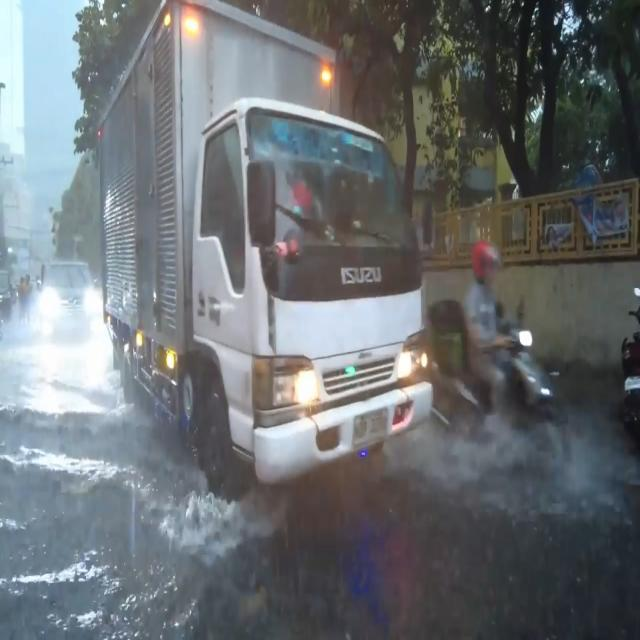half: (472, 238, 503, 290)
